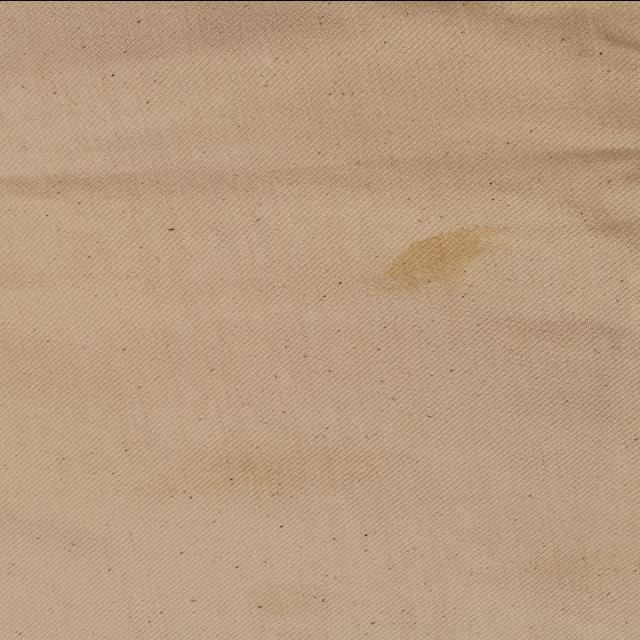taaaches: (352, 219, 514, 299)
